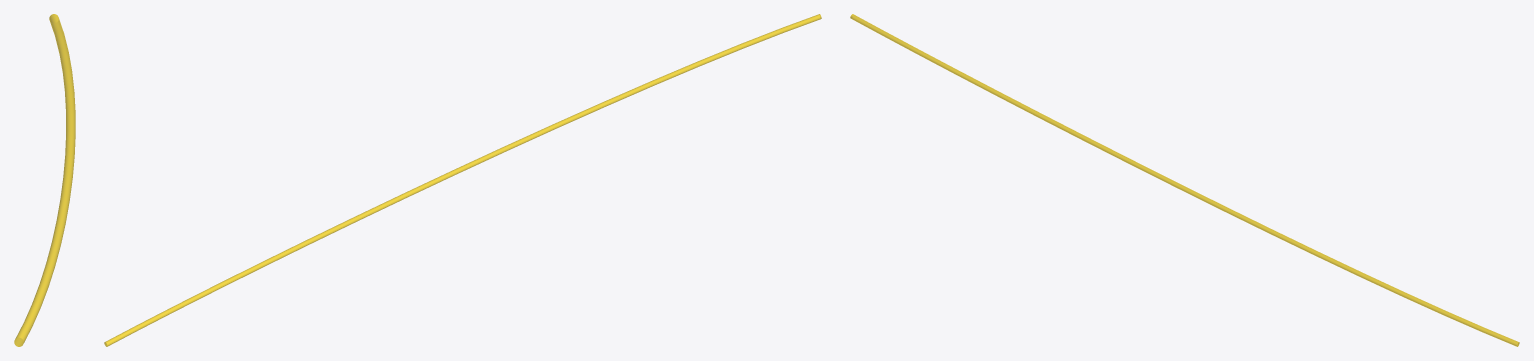
File: Event_419990632_track_28.fbx
3 renders of one model, left to right at view 1: azimuth 90°, elevation 25°; view 2: azimuth 210°, elevation 25°; view 3: azimuth 330°, elevation 25°, orthographic. The views are drawn at different scales.
Visible parts, largest first — view 1: Model; view 2: Model; view 3: Model.
Boxes of the visible parts, box(x1,y1,x2,y2) form: Model: box(14, 14, 75, 346); Model: box(104, 14, 821, 346); Model: box(850, 14, 1519, 346).
Size of the model in its own units: 6.07 by 1.38 by 0.2557.
